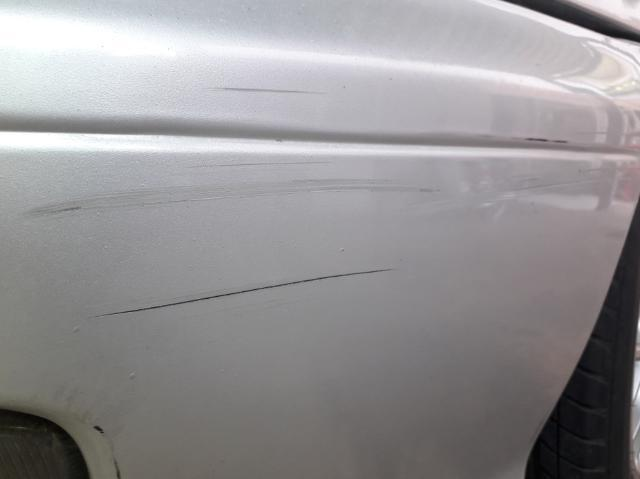Bumper: (5, 65, 579, 356)
